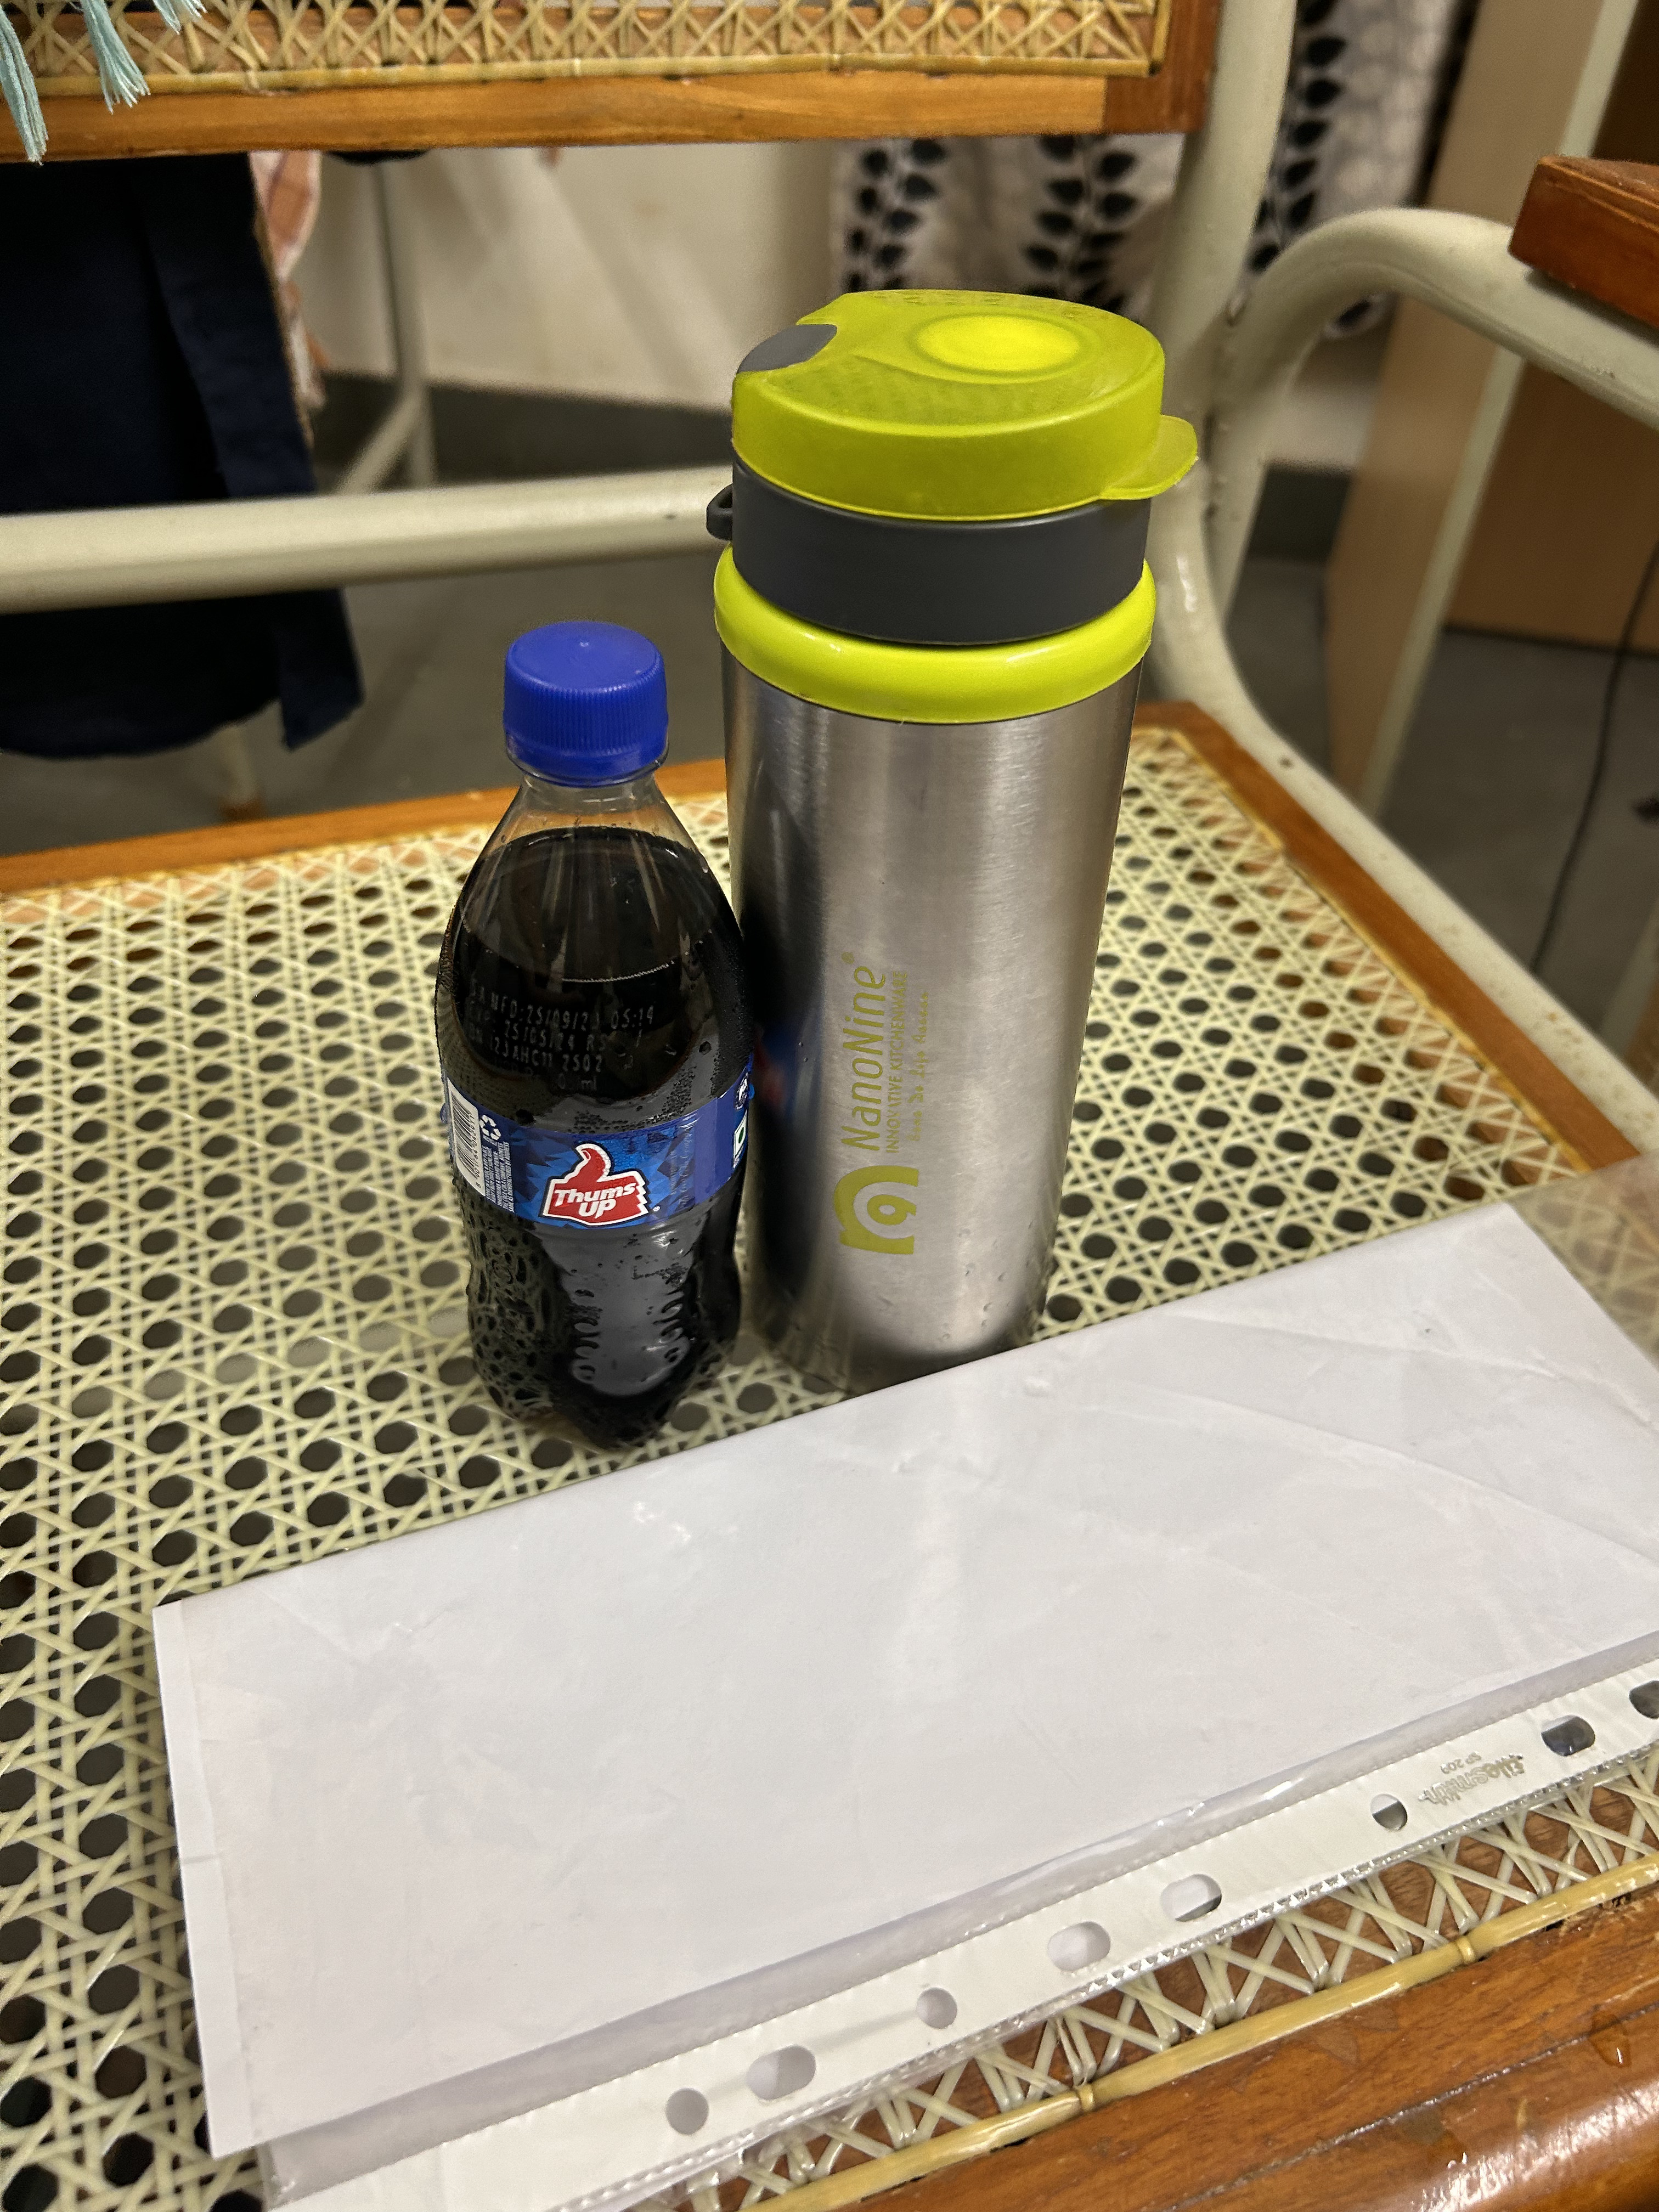sealstable: (491, 590, 683, 831)
